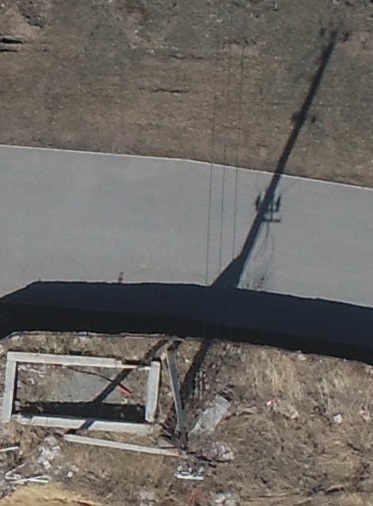opora: (58, 340, 216, 480)
